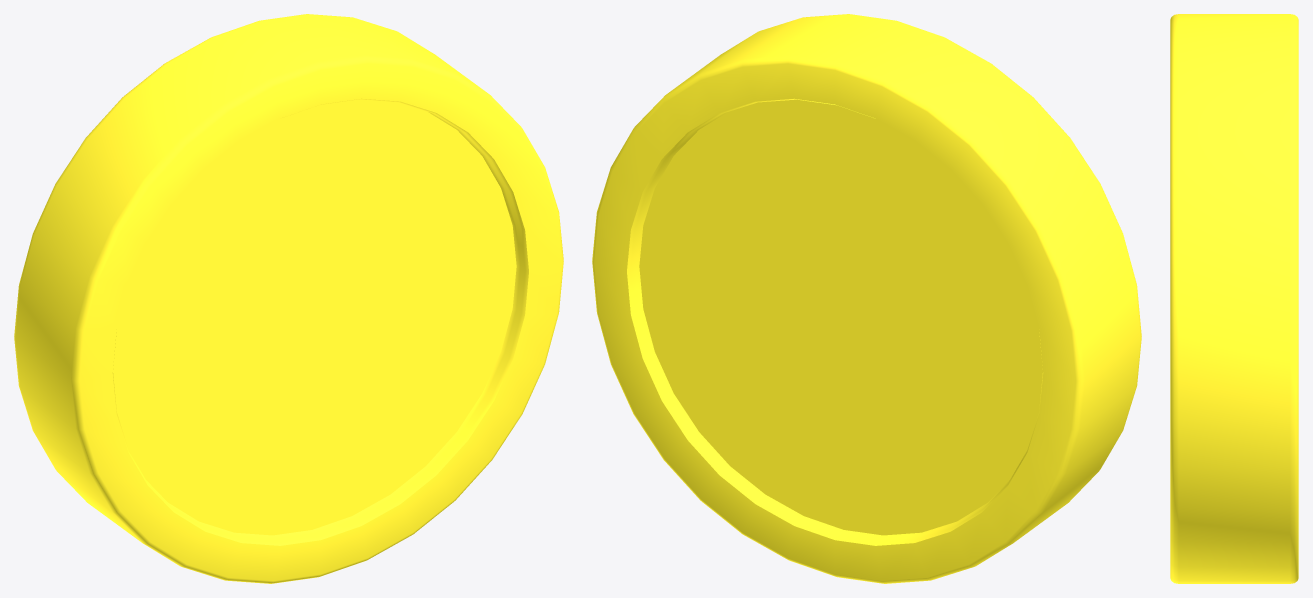
Rendered from Coin.fbx.
3 views of the same model, side by side, from view 1: azimuth 30°, elevation 25°; view 2: azimuth 150°, elevation 25°; view 3: azimuth 270°, elevation 25° (orthographic).
Parts seen in each view (by area): view 1: coin; view 2: coin; view 3: coin.
Boxes of the visible parts, left/top/right/bottom form: coin: left=14, top=14, right=563, bottom=583; coin: left=592, top=14, right=1141, bottom=583; coin: left=1170, top=14, right=1298, bottom=583.
Bounding box in the file's own units: 75 × 75 × 16.88.
